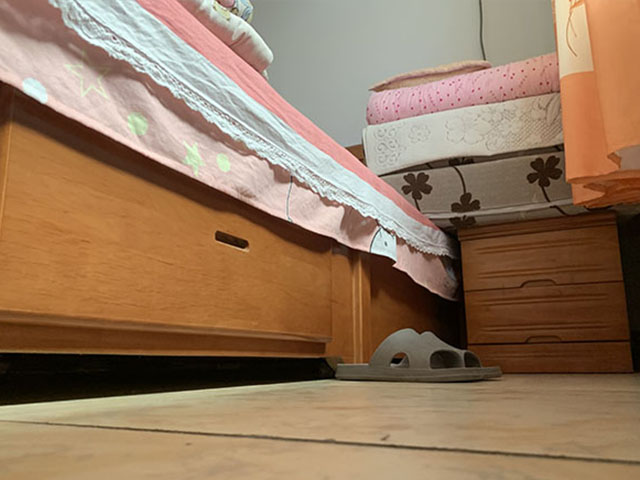bed: (1, 1, 462, 379)
cabinet: (456, 210, 640, 376)
curtain: (548, 1, 640, 207)
slippers: (333, 326, 504, 383)
